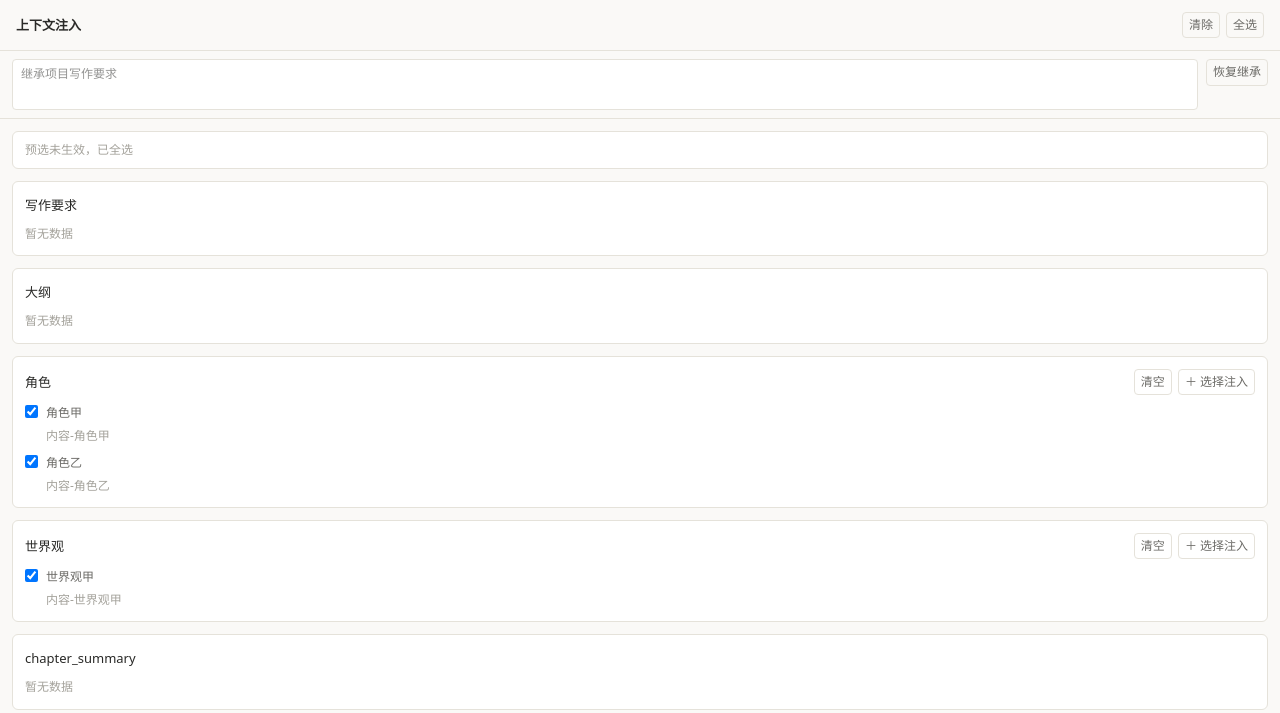
Test: #1405 — 1 分类清除：只清该类 › 分类清除只移除本类：另两类勾选框仍为 checked（勾选面同步）
This screenshot has width=1280, height=713.
Click the button with test id "context-clear-world_setting" at (1153, 546), box [1134,533,1172,559]
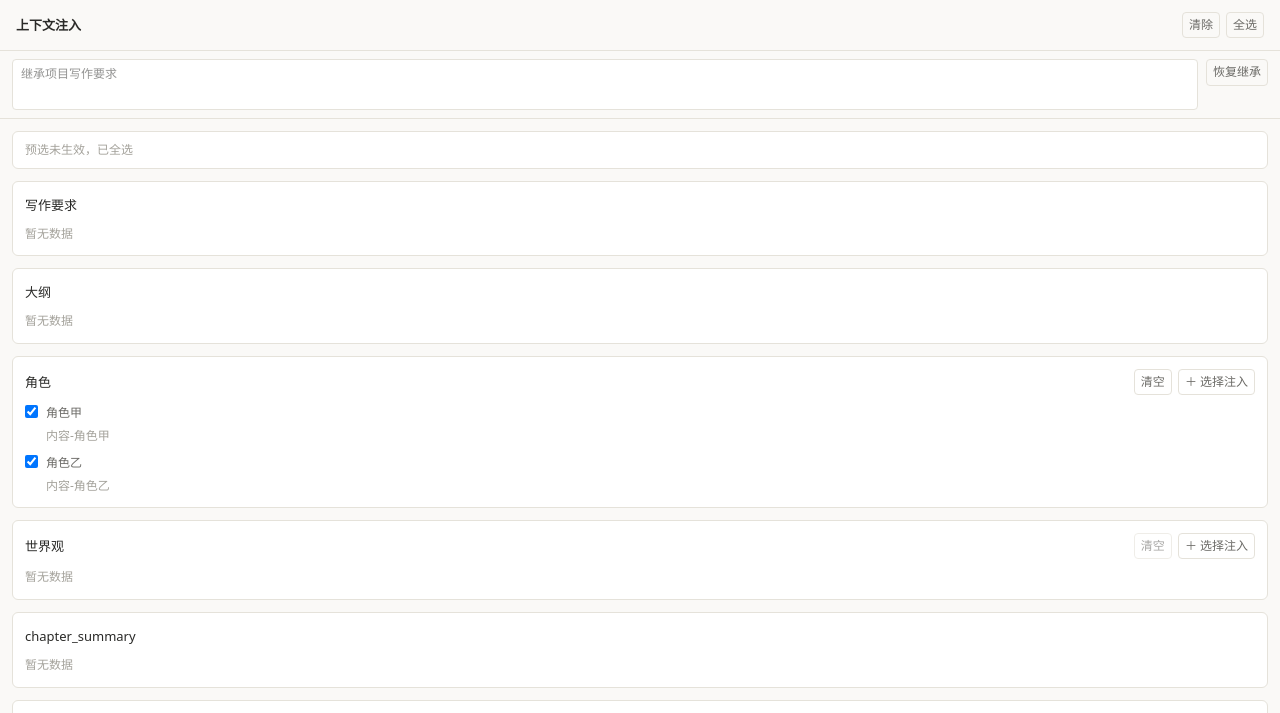
Expected: the element with test id "context-item-world_setting-0" is gone
